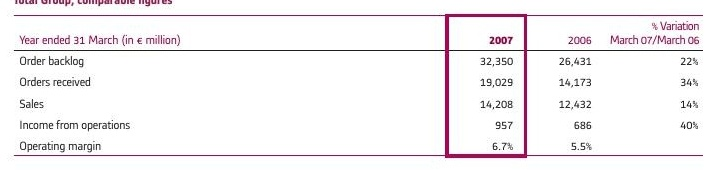table: (0, 0, 716, 170)
